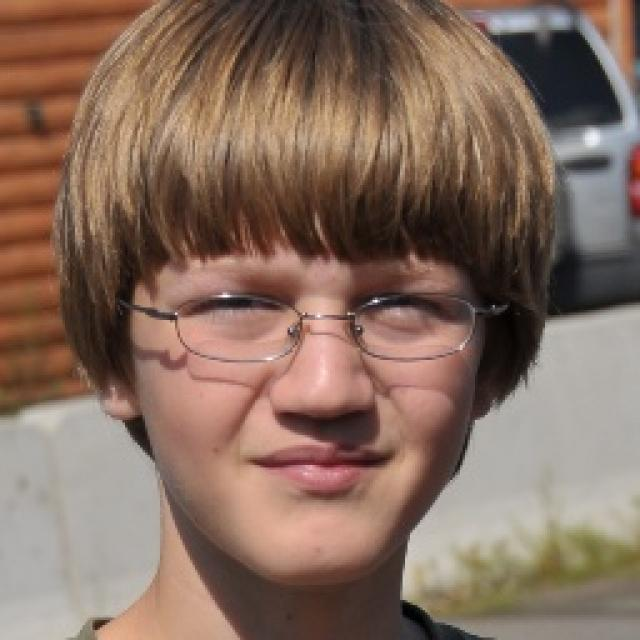earlobe: (98, 388, 144, 422), (471, 391, 498, 422)
eye: (185, 292, 275, 318), (367, 296, 443, 319)
nose: (272, 408, 372, 439)
wholeear: (470, 320, 512, 422)
